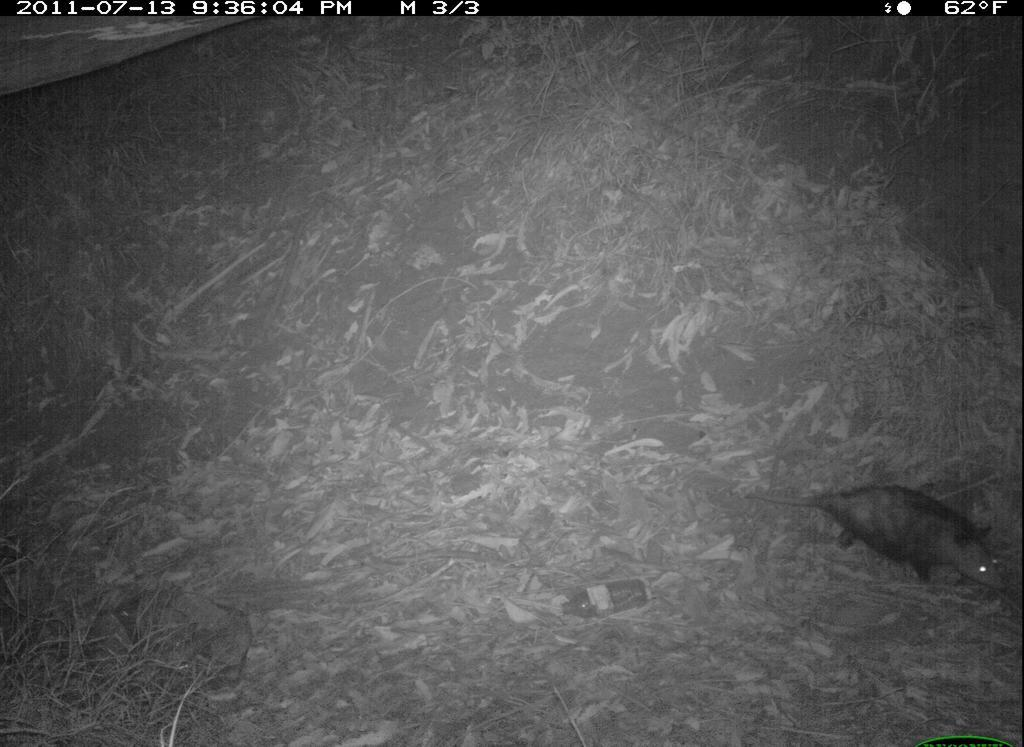opossum: (738, 479, 1014, 601)
